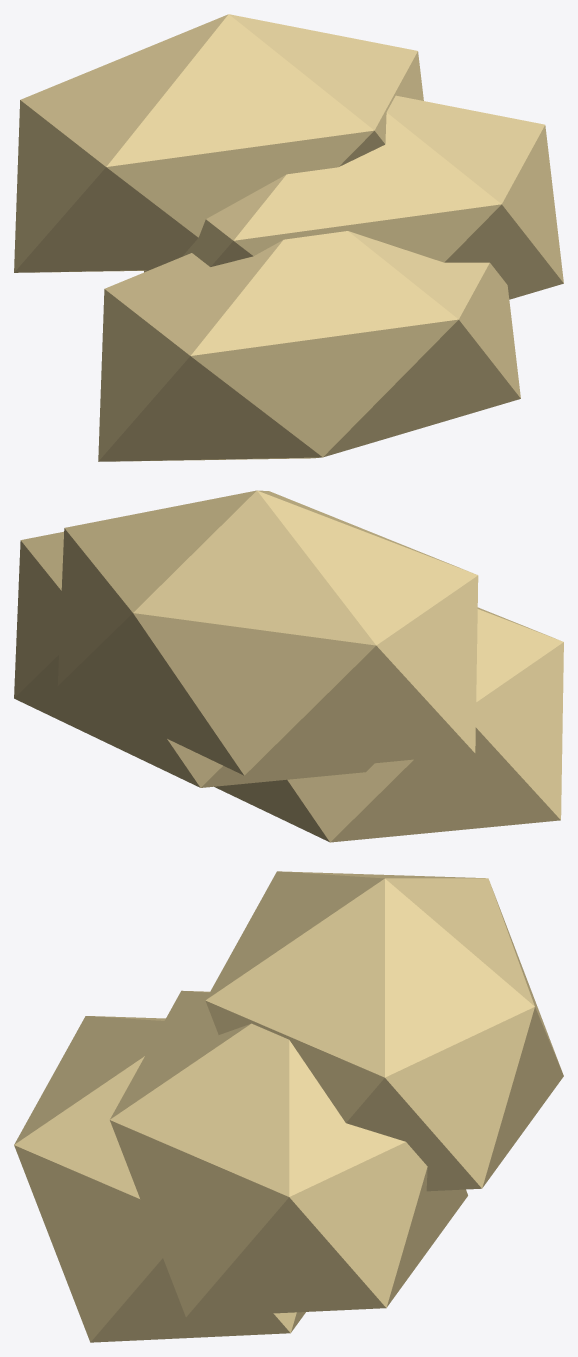
File: item_043_flour_m.glb
The picture shows the model from 3 angles, top to bottom: view 1: azimuth 30°, elevation 25°; view 2: azimuth 150°, elevation 25°; view 3: azimuth 270°, elevation 25°; orthographic projection. The views are drawn at different scales.
Parts seen in each view (by area): view 1: item_043_flour_m; view 2: item_043_flour_m; view 3: item_043_flour_m.
Part boxes in pixels (bbox=[...]): item_043_flour_m: bbox=[14, 14, 563, 461]; item_043_flour_m: bbox=[14, 490, 563, 842]; item_043_flour_m: bbox=[14, 871, 563, 1342].
Size of the model in its own units: 0.4023 by 0.3007 by 0.3449.
